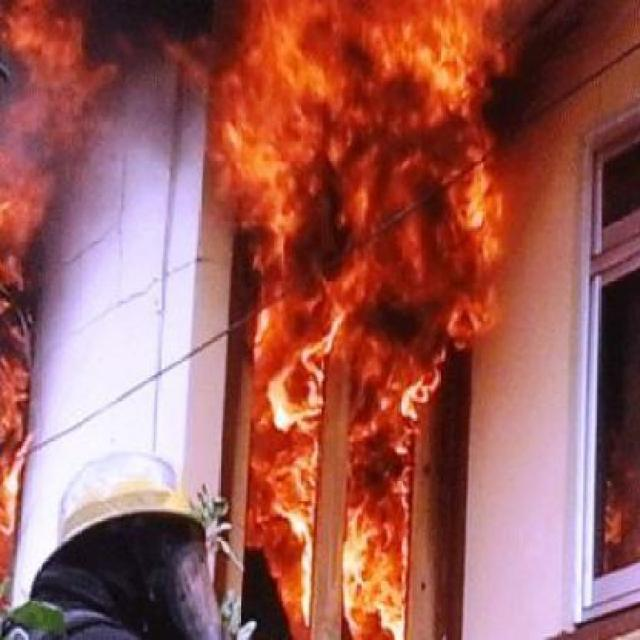Fire: (210, 0, 516, 640), (3, 0, 65, 629)
Smoke: (66, 0, 223, 146)
